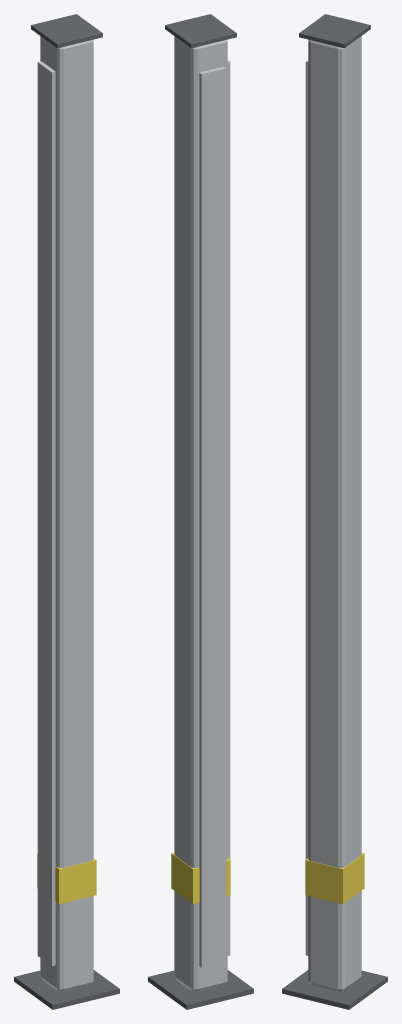
File: steel-hall-corner-column-6-m.glb
3 views of the same model, side by side, from view 1: azimuth 30°, elevation 25°; view 2: azimuth 210°, elevation 25°; view 3: azimuth 330°, elevation 25° (orthographic).
Parts seen in each view (by area): view 1: machine-shop-and-factory-hall-hall-corner-column; view 2: machine-shop-and-factory-hall-hall-corner-column; view 3: machine-shop-and-factory-hall-hall-corner-column.
Boxes of the visible parts, x1,y1,x2,y2 form: machine-shop-and-factory-hall-hall-corner-column: (14,14,119,1009); machine-shop-and-factory-hall-hall-corner-column: (148,14,253,1009); machine-shop-and-factory-hall-hall-corner-column: (282,14,387,1009).
Bounding box in the file's own units: 0.4398 × 6.01 × 0.4398.
